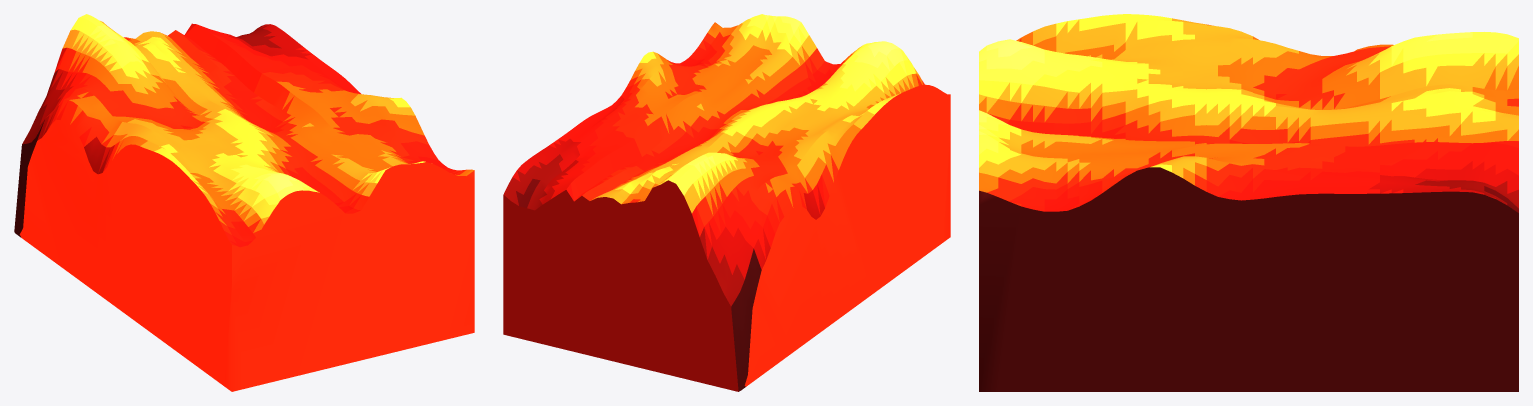
File: core_fire_60.glb
The picture shows the model from 3 angles, left to right: view 1: azimuth 30°, elevation 25°; view 2: azimuth 150°, elevation 25°; view 3: azimuth 270°, elevation 25°; orthographic projection. The views are drawn at different scales.
Parts seen in each view (by area): view 1: core_fire_60_fire; view 2: core_fire_60_fire; view 3: core_fire_60_fire.
Part boxes in pixels (x1,y1,x2,y2): core_fire_60_fire: [14, 14, 474, 391]; core_fire_60_fire: [503, 14, 950, 391]; core_fire_60_fire: [979, 14, 1518, 391].
Bounding box in the file's own units: 18 × 14.46 × 28.
